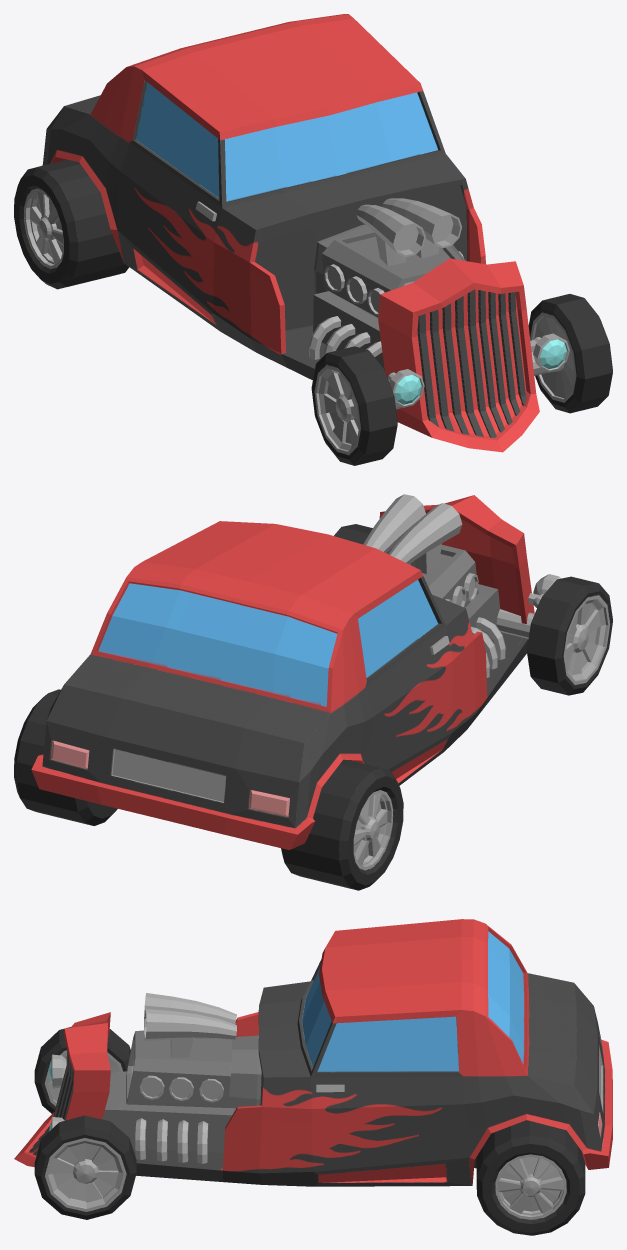
Rendered from HotRod.fbx.
3 views of the same model, one above another, from view 1: azimuth 30°, elevation 25°; view 2: azimuth 150°, elevation 25°; view 3: azimuth 270°, elevation 25° (orthographic). The views are drawn at different scales.
Visible parts, largest first — view 1: HotRod, Wheel1, rightWheel, leftWheel; view 2: HotRod, Wheel1, rightWheel, breakLights; view 3: HotRod, Wheel1, leftWheel, rightWheel.
Boxes of the visible parts, box(x1,y1,x2,y2) form: HotRod: box(40, 14, 569, 452); Wheel1: box(14, 159, 129, 289); rightWheel: box(311, 346, 397, 465); leftWheel: box(528, 294, 612, 413); HotRod: box(31, 494, 560, 849); Wheel1: box(14, 689, 403, 890); rightWheel: box(527, 576, 612, 695); breakLights: box(51, 740, 289, 816); HotRod: box(14, 919, 612, 1186); Wheel1: box(476, 1120, 585, 1235); leftWheel: box(34, 1115, 136, 1219); rightWheel: box(34, 1027, 130, 1113).
Bounding box in the file's own units: 191 × 130 × 339.
1 material, 1 textured.
